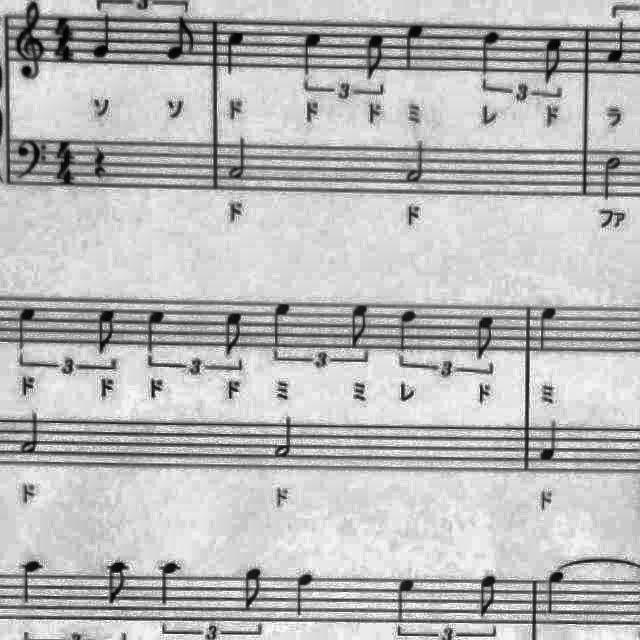Bass-clef: (11, 132, 49, 184)
Eighth-note: (161, 12, 199, 64), (101, 557, 135, 611), (358, 29, 390, 86), (536, 33, 568, 89), (92, 305, 125, 359), (344, 298, 376, 352), (219, 308, 251, 360), (472, 312, 504, 364), (474, 571, 506, 623), (238, 563, 270, 615)
Half-note: (596, 150, 628, 206), (269, 411, 301, 461), (17, 409, 47, 461), (403, 137, 433, 187), (223, 132, 250, 184)
Quarter-note: (400, 17, 432, 75), (474, 26, 506, 84), (16, 555, 50, 609), (390, 574, 422, 630), (536, 413, 570, 465), (600, 16, 632, 70), (154, 556, 186, 610), (532, 301, 564, 355), (266, 296, 298, 349), (390, 305, 422, 357), (140, 304, 172, 356), (297, 28, 329, 80), (220, 25, 250, 79), (291, 567, 321, 621), (11, 301, 41, 354), (541, 568, 571, 620), (89, 10, 118, 62)
Quarter-rest: (88, 142, 114, 186)
Treble-clef: (10, 2, 48, 86)
